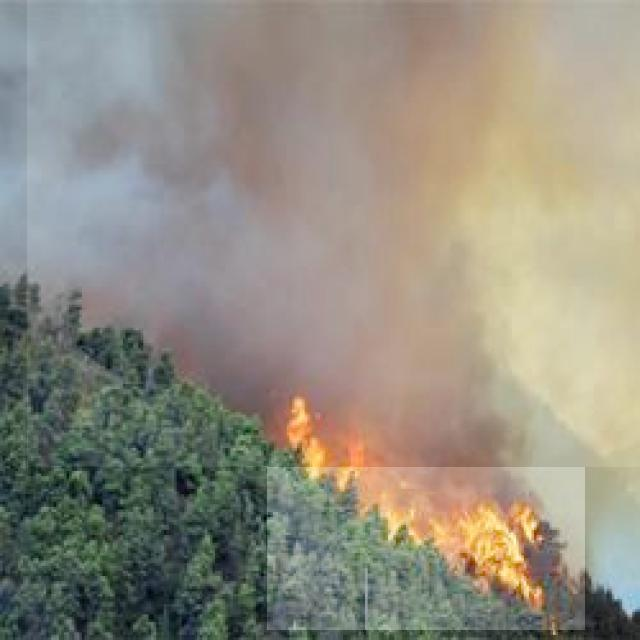Fire: (268, 391, 586, 630)
Smoke: (27, 0, 640, 467)
